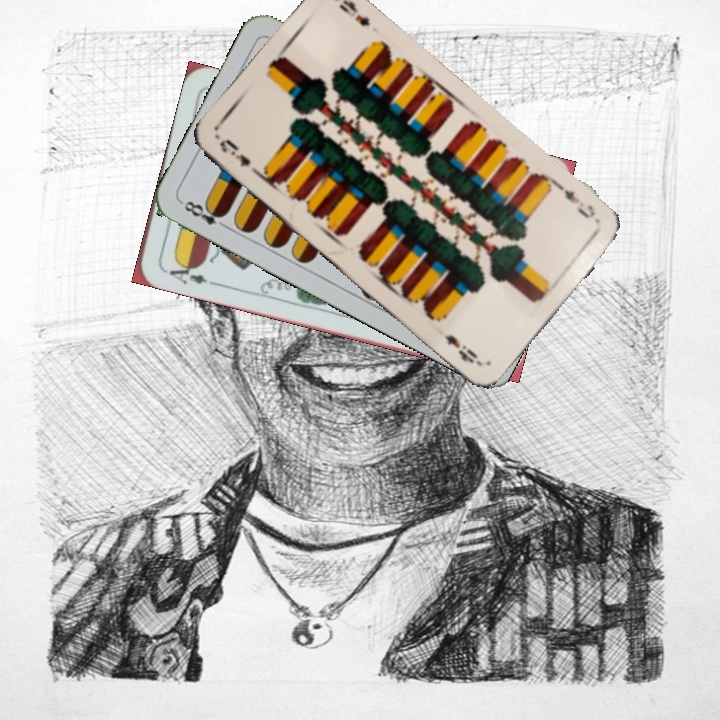E8: (177, 196, 231, 232)
E9: (215, 134, 262, 178), (554, 181, 598, 222)
EA: (159, 257, 218, 288)
